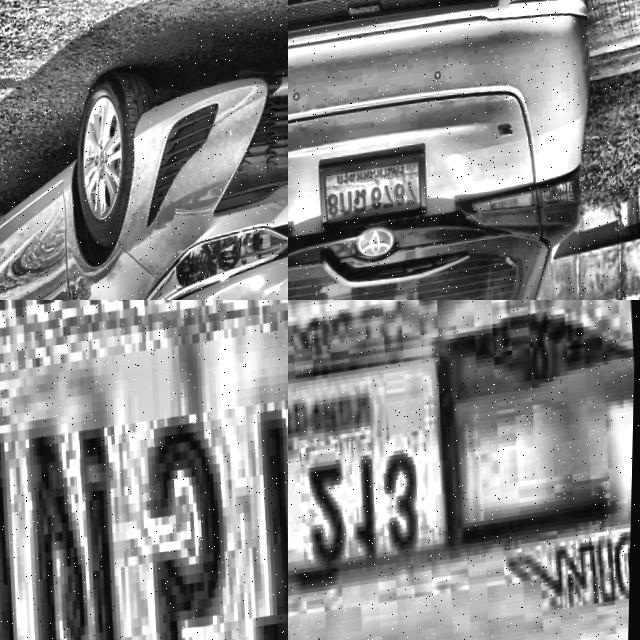license-plate: (0, 300, 288, 640), (288, 350, 468, 616), (317, 153, 431, 238)
